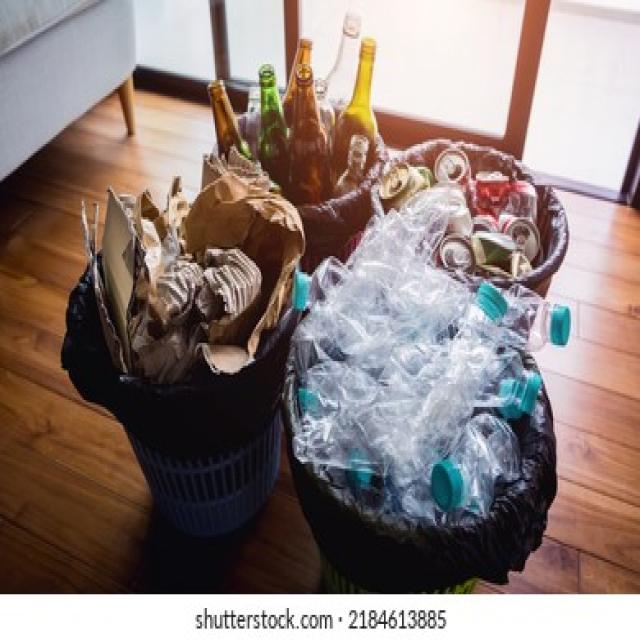cardboard: (89, 201, 284, 364)
glass: (205, 18, 402, 172)
metal: (394, 160, 540, 263)
plastic: (308, 263, 532, 519)
